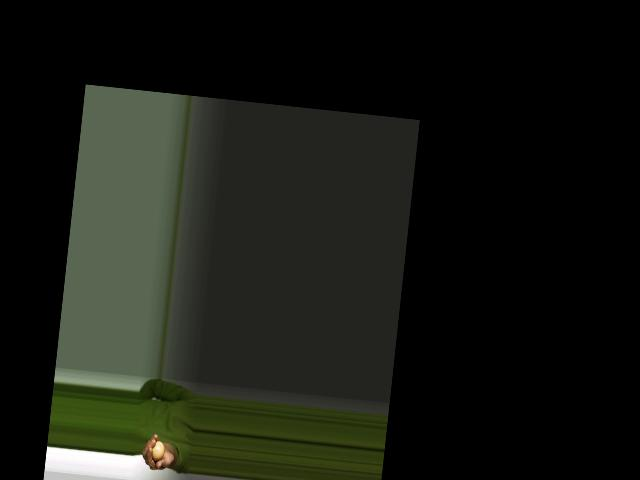egg: (150, 439, 165, 461)
